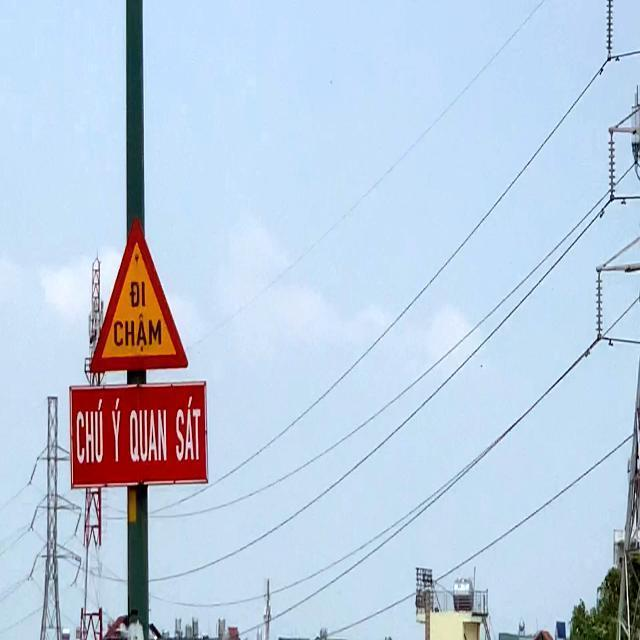245-di-cham: (88, 224, 192, 372)
